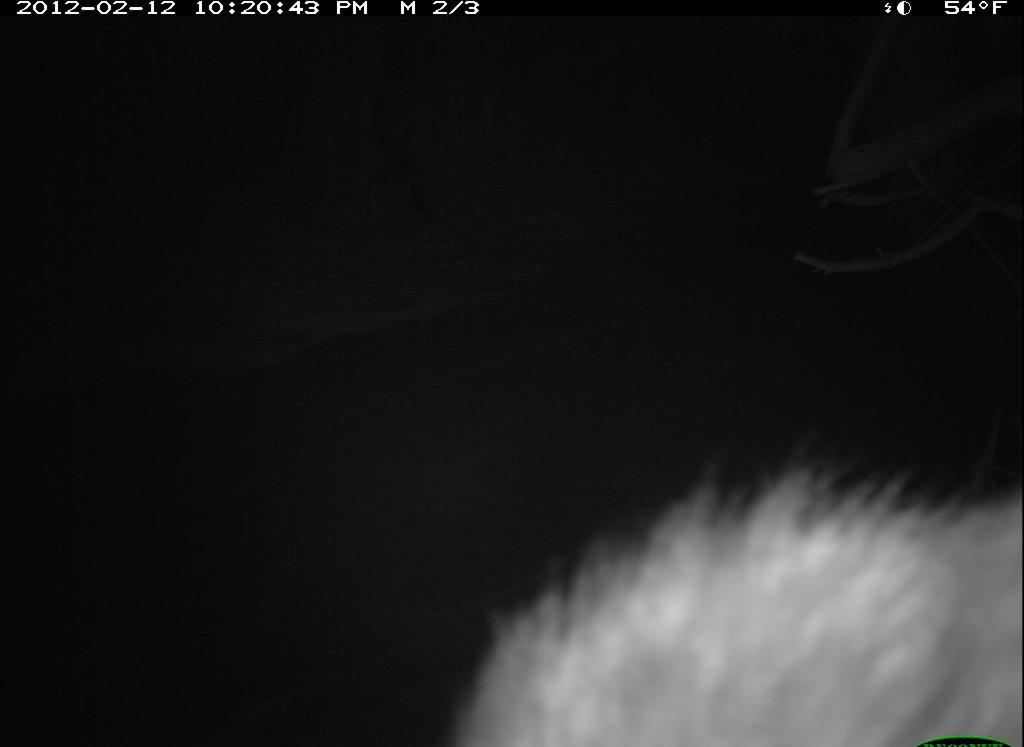raccoon: (438, 465, 1016, 734)
